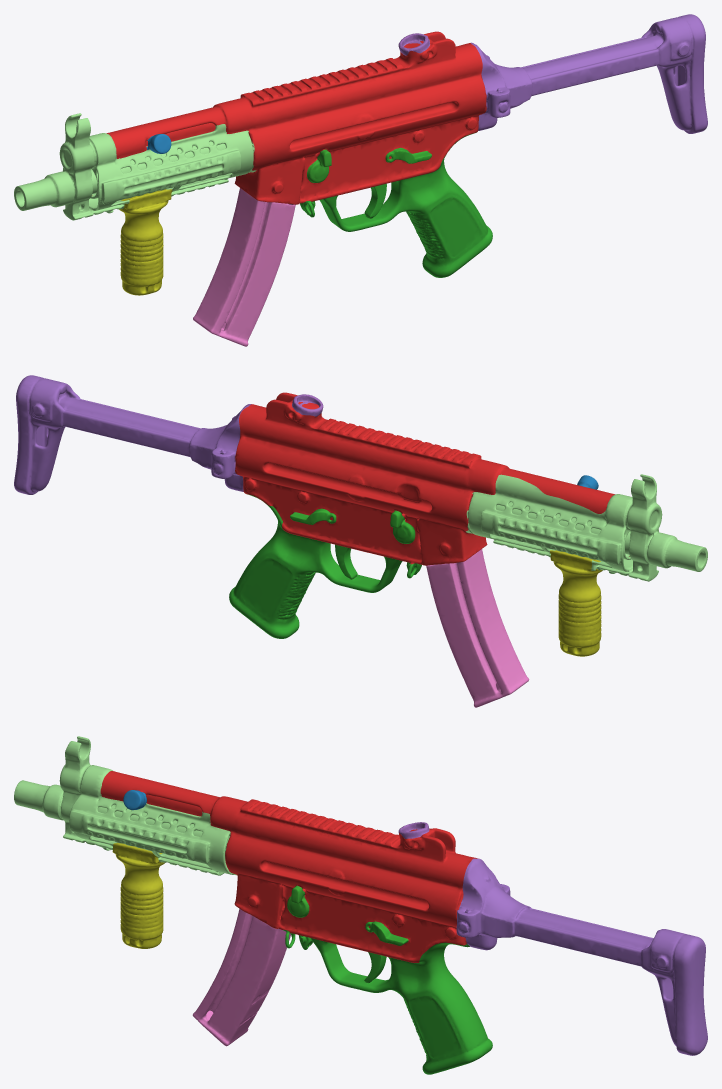
The model's file is obsidian-carbine.glb.
3 renders of one model, top to bottom at view 1: azimuth 30°, elevation 25°; view 2: azimuth 150°, elevation 25°; view 3: azimuth 330°, elevation 25°, orthographic.
Visible parts, largest first — view 1: model_part16, model_part15, model_part13, model_part12, model_part14, model_part0, model_part4; view 2: model_part16, model_part15, model_part13, model_part12, model_part14, model_part0, model_part3; view 3: model_part16, model_part13, model_part15, model_part12, model_part14, model_part0.
Boxes of the visible parts, x1,y1,x2,y2 form: model_part16: [92, 31, 486, 204]; model_part15: [14, 113, 256, 220]; model_part13: [471, 14, 707, 133]; model_part12: [300, 132, 492, 277]; model_part14: [193, 188, 295, 346]; model_part0: [119, 189, 172, 295]; model_part4: [307, 149, 331, 182]; model_part16: [235, 392, 629, 565]; model_part15: [466, 474, 707, 581]; model_part13: [14, 375, 251, 494]; model_part12: [229, 494, 421, 638]; model_part14: [426, 549, 529, 707]; model_part0: [550, 550, 602, 656]; model_part3: [390, 510, 415, 543]; model_part16: [100, 771, 477, 962]; model_part13: [456, 858, 707, 1055]; model_part15: [14, 736, 237, 875]; model_part12: [283, 930, 492, 1074]; model_part14: [192, 908, 290, 1046]; model_part0: [112, 842, 164, 948].
Bounding box in the file's own units: 0.8 × 0.2927 × 0.0839.
